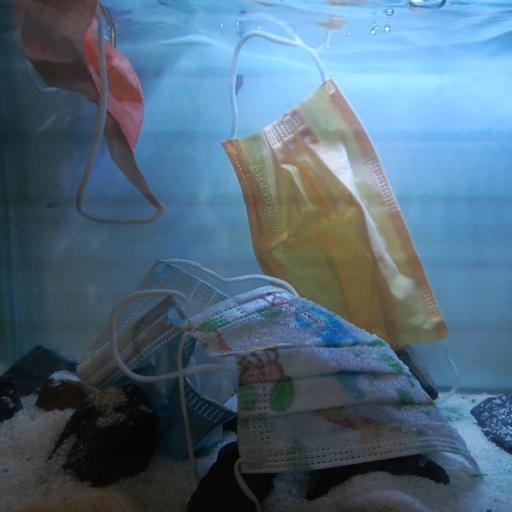mask: (219, 32, 447, 351), (178, 283, 482, 480), (14, 0, 164, 229), (76, 256, 238, 464)
